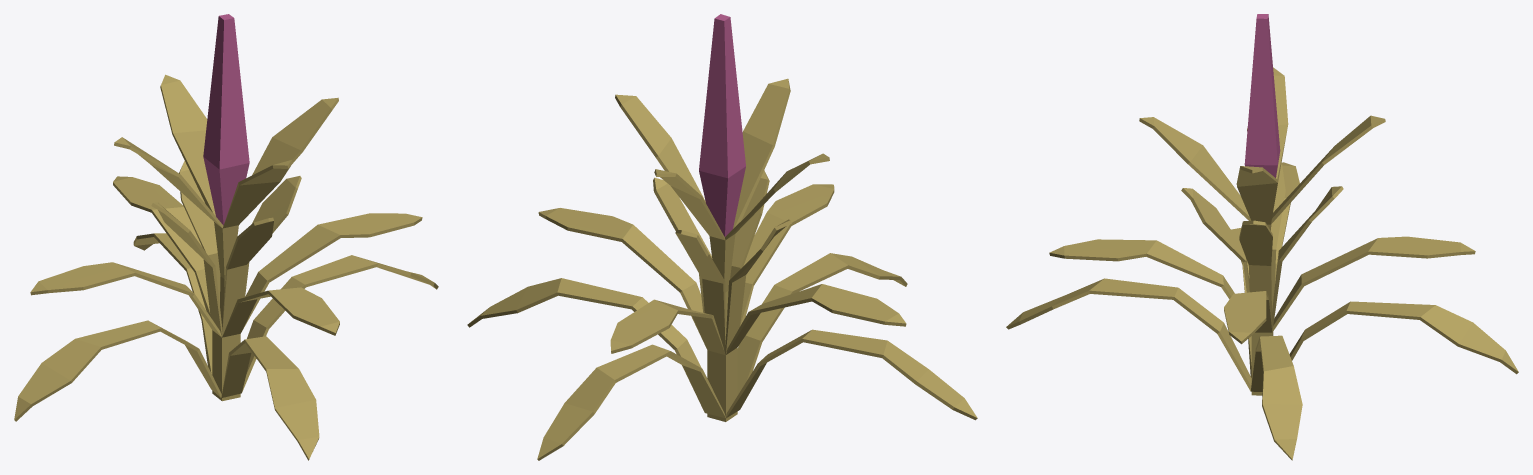
The model's file is plant-5.glb.
3 renders of one model, left to right at view 1: azimuth 30°, elevation 25°; view 2: azimuth 150°, elevation 25°; view 3: azimuth 270°, elevation 25°, orthographic. The views are drawn at different scales.
Visible parts, largest first — view 1: Plant_5; view 2: Plant_5; view 3: Plant_5.
Boxes of the visible parts, x1=… form: Plant_5: x1=14, y1=14, x2=438, y2=460; Plant_5: x1=467, y1=14, x2=977, y2=460; Plant_5: x1=1006, y1=14, x2=1518, y2=460.
Size of the model in its own units: 1.74 by 1.39 by 1.72.
